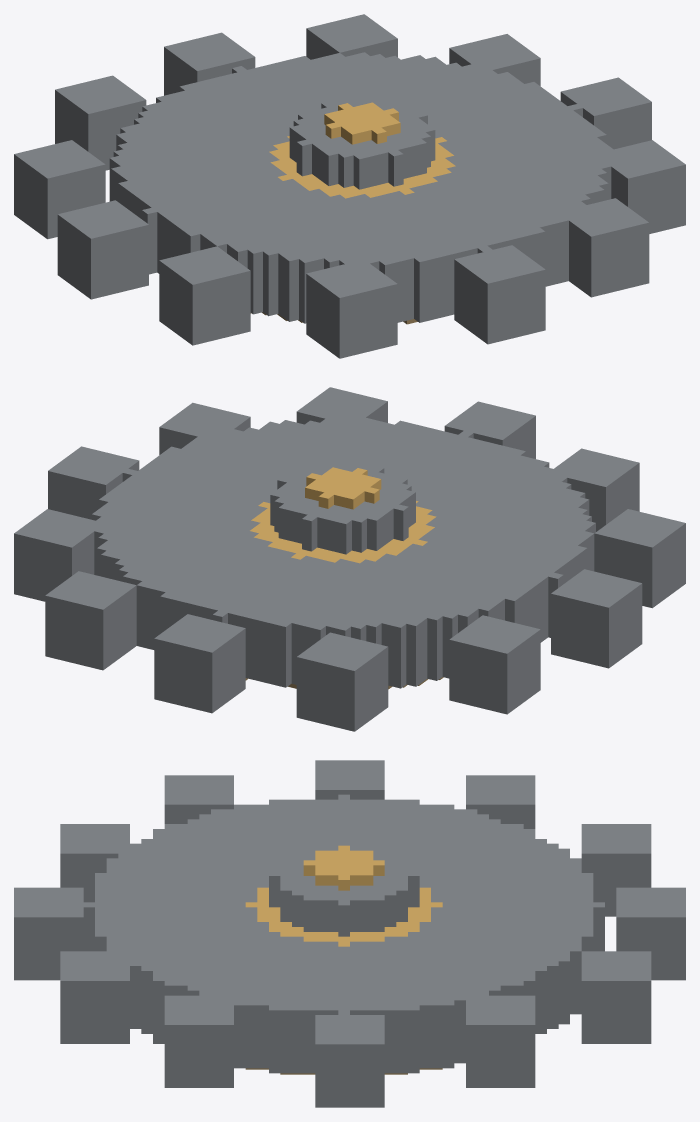
Rendered from crown.glb.
The picture shows the model from 3 angles, top to bottom: view 1: azimuth 30°, elevation 25°; view 2: azimuth 150°, elevation 25°; view 3: azimuth 270°, elevation 25°; orthographic projection. The views are drawn at different scales.
Size of the model in its own units: 58 by 13 by 58.
